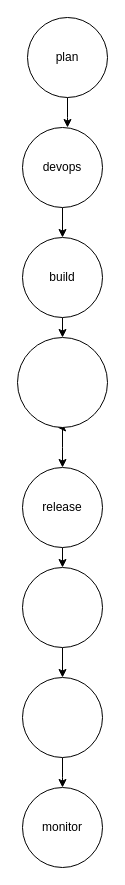
This 125x885 diagram has some shape labels left out. The box of each missing label's shape, as (x1, y1, x2, y2) in pixels:
deploy: (22, 566, 102, 648)
operate: (22, 676, 102, 758)
test: (16, 336, 108, 428)
